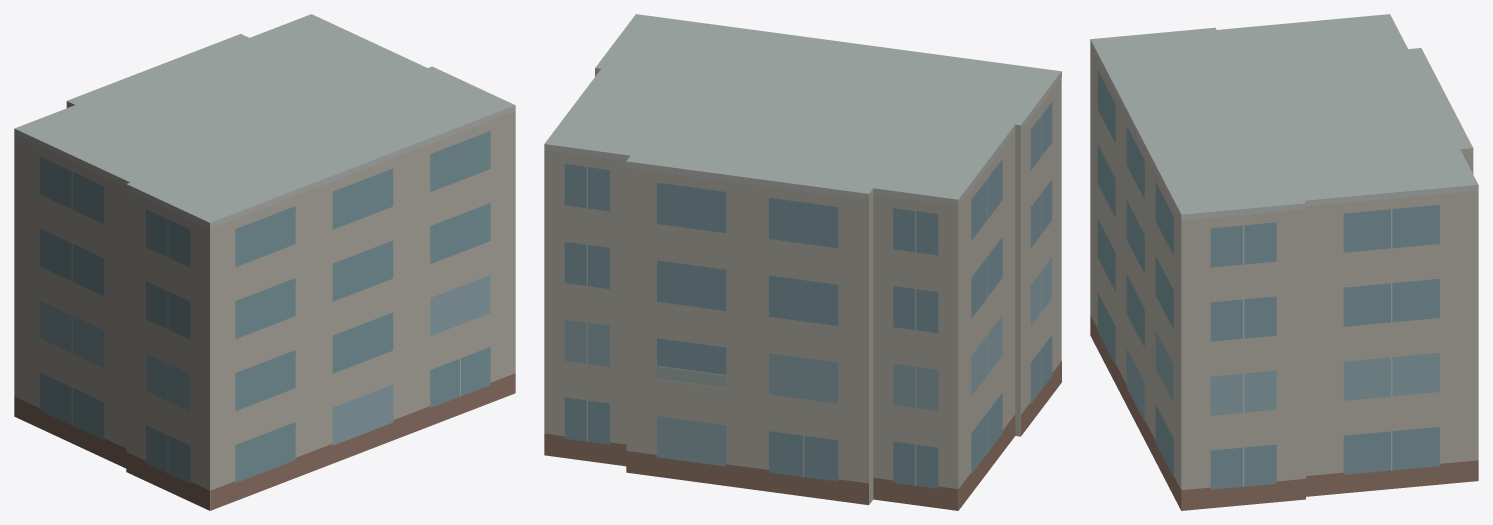
The model's file is survey-upis-32619844.glb.
3 renders of one model, left to right at view 1: azimuth 30°, elevation 25°; view 2: azimuth 150°, elevation 25°; view 3: azimuth 270°, elevation 25°, orthographic. The views are drawn at different scales.
Parts seen in each view (by area): view 1: survey-upis-32619844.tmp; view 2: survey-upis-32619844.tmp; view 3: survey-upis-32619844.tmp.
Part boxes in pixels (left/top/right/bottom): survey-upis-32619844.tmp: left=14, top=14, right=515, bottom=510; survey-upis-32619844.tmp: left=544, top=14, right=1061, bottom=510; survey-upis-32619844.tmp: left=1090, top=14, right=1478, bottom=510.
Bounding box in the file's own units: 17.74 × 12.2 × 14.5.
